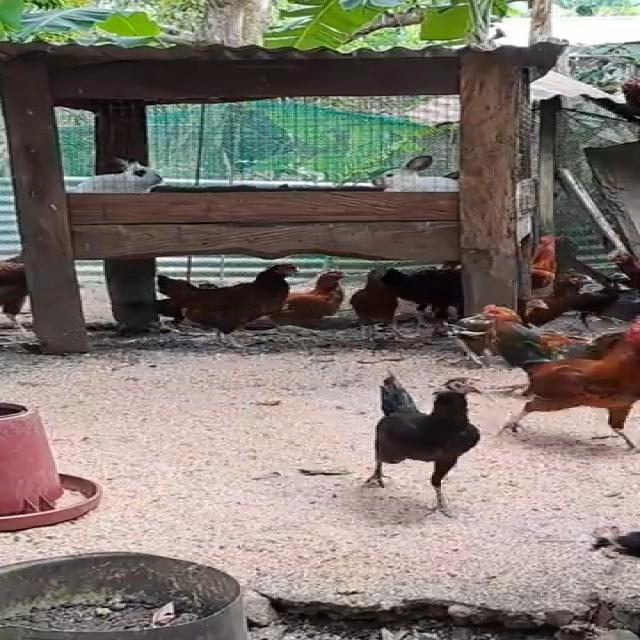running: (327, 360, 494, 502), (534, 315, 640, 456), (150, 252, 316, 336), (454, 304, 580, 374), (291, 259, 360, 333)
